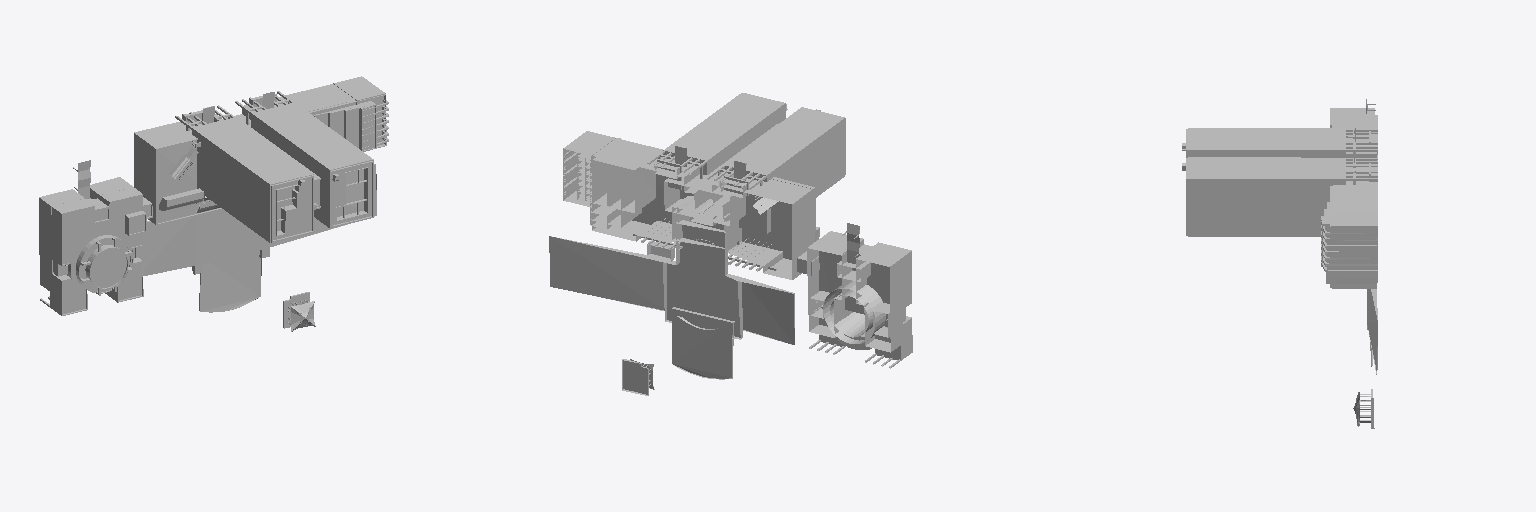
The picture shows the model from 3 angles: view 1: azimuth 30°, elevation 25°; view 2: azimuth 150°, elevation 25°; view 3: azimuth 270°, elevation 25°; orthographic projection.
Parts seen in each view (by area): view 1: [number redacted], [number redacted]; view 2: [number redacted], [number redacted]; view 3: [number redacted].
Part boxes in pixels (left/top/right/bottom): [number redacted]: left=39, top=76, right=388, bottom=315; [number redacted]: left=283, top=292, right=315, bottom=331; [number redacted]: left=549, top=93, right=912, bottom=379; [number redacted]: left=622, top=359, right=654, bottom=395; [number redacted]: left=1182, top=99, right=1377, bottom=374.
Size of the model in its own units: 203 by 142 by 102.